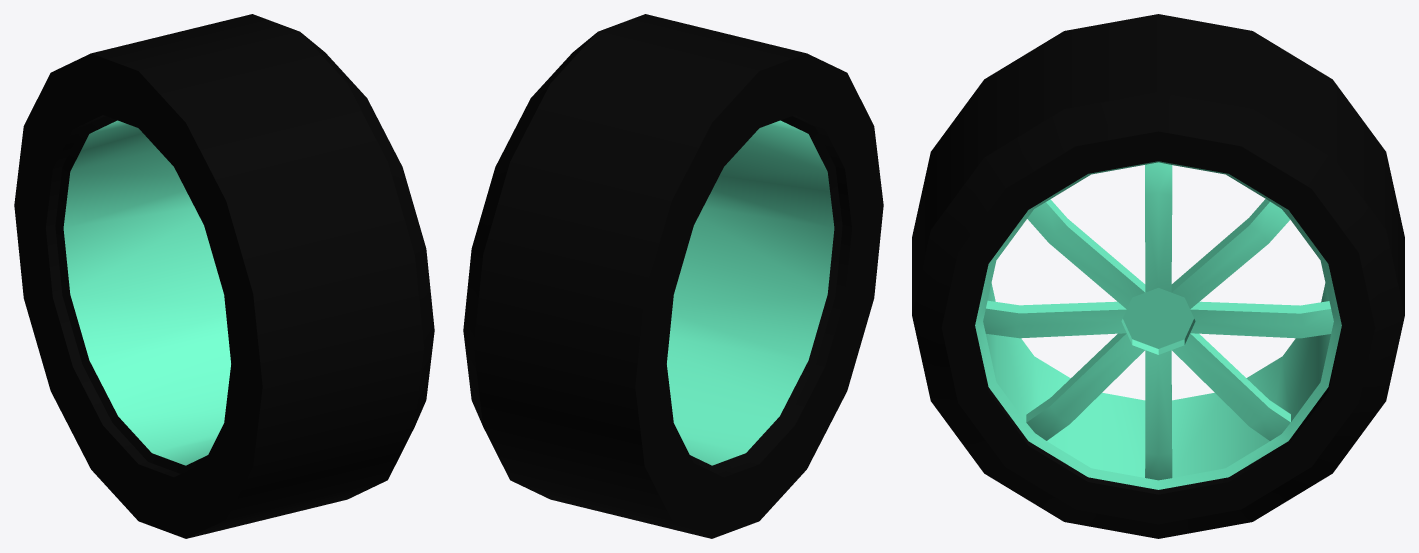
Rendered from Wheel.fbx.
The picture shows the model from 3 angles, left to right: view 1: azimuth 30°, elevation 25°; view 2: azimuth 150°, elevation 25°; view 3: azimuth 270°, elevation 25°; orthographic projection.
Parts seen in each view (by area): view 1: Wheel; view 2: Wheel; view 3: Wheel.
Part boxes in pixels (x1,y1,x2,y2): Wheel: (14, 14, 434, 538); Wheel: (463, 14, 883, 538); Wheel: (912, 14, 1404, 538).
Bounding box in the file's own units: 0.285 × 0.656 × 0.656.
